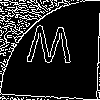W: (25, 25, 73, 74)
